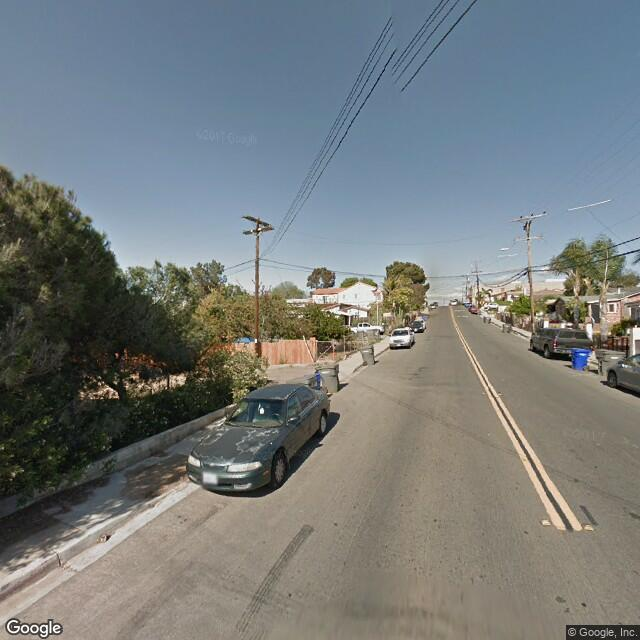litter: (95, 531, 116, 543)
